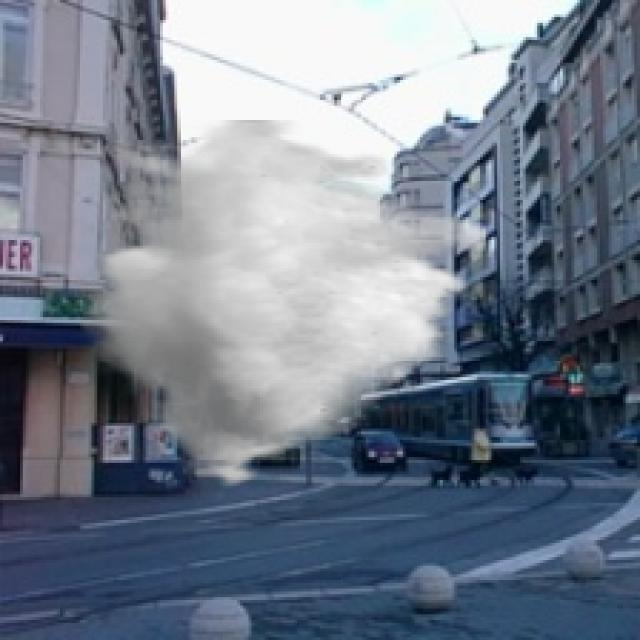smoke: (80, 120, 489, 494)
